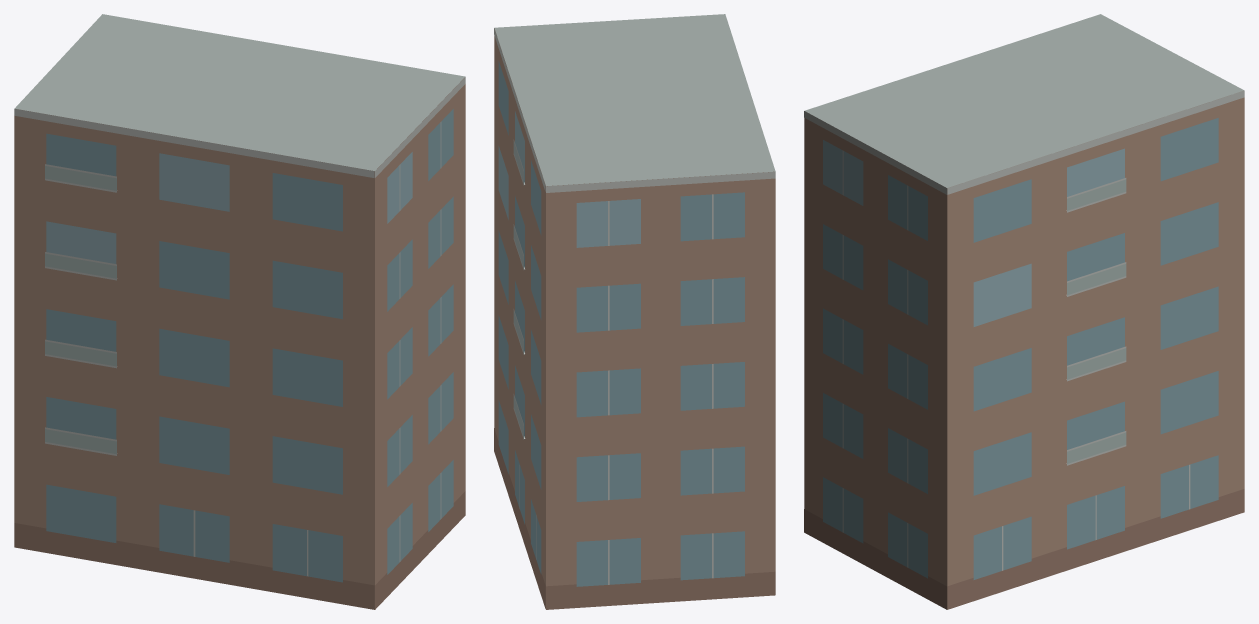
The model's file is survey-upis-32996090.glb.
3 views of the same model, side by side, from view 1: azimuth 30°, elevation 25°; view 2: azimuth 150°, elevation 25°; view 3: azimuth 270°, elevation 25° (orthographic). The views are drawn at different scales.
Parts seen in each view (by area): view 1: survey-upis-32996090.tmp; view 2: survey-upis-32996090.tmp; view 3: survey-upis-32996090.tmp.
Part boxes in pixels (bbox=[...]): survey-upis-32996090.tmp: bbox=[14, 14, 465, 609]; survey-upis-32996090.tmp: bbox=[494, 14, 775, 609]; survey-upis-32996090.tmp: bbox=[804, 14, 1244, 609].
Size of the model in its own units: 13.29 by 15 by 14.21.
